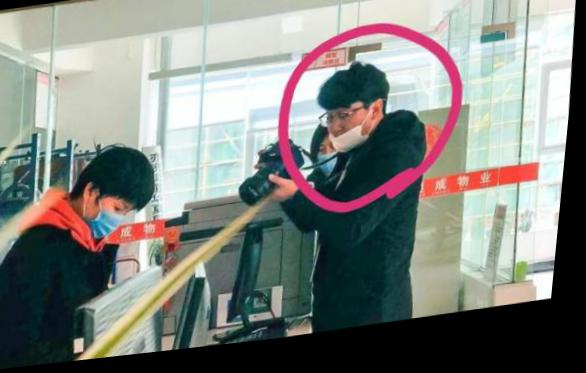OK: (83, 193, 142, 246), (319, 145, 350, 185)
WRONG: (327, 108, 374, 163)
